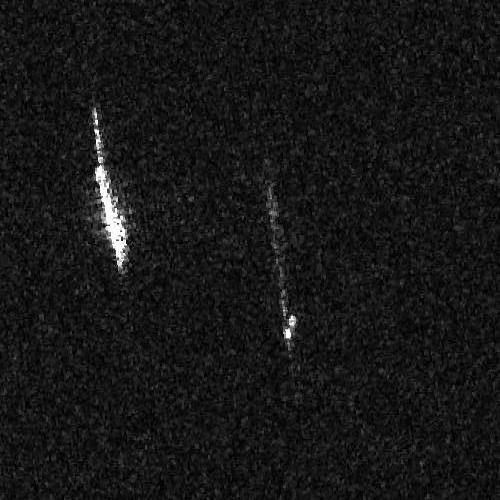ship: (92, 107, 130, 274), (265, 187, 298, 343)
